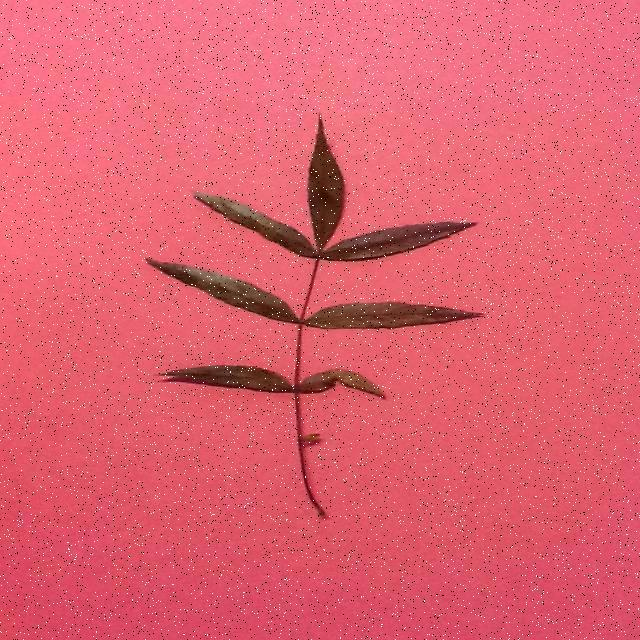foliage: (148, 258, 302, 326), (187, 189, 321, 260), (320, 220, 480, 264), (300, 300, 482, 332), (307, 118, 345, 250), (158, 362, 297, 398), (295, 366, 388, 402)
